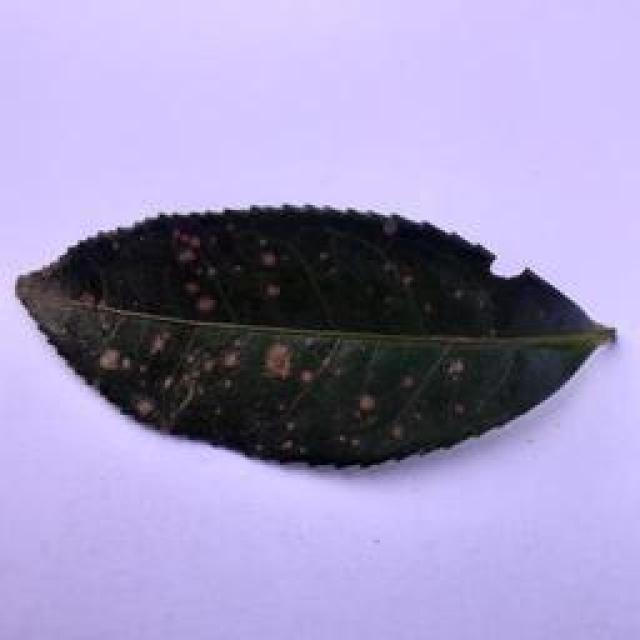Algal Leaf Spot: (18, 197, 616, 478)
